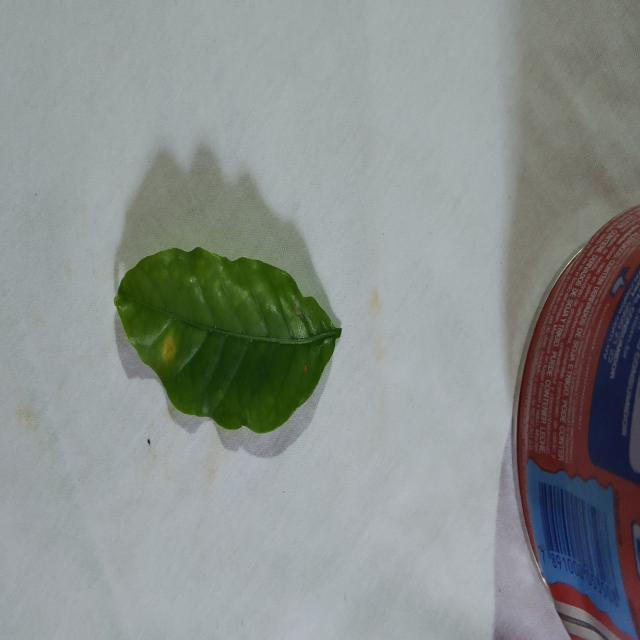Enfermedad-Roya: (112, 247, 343, 439)
